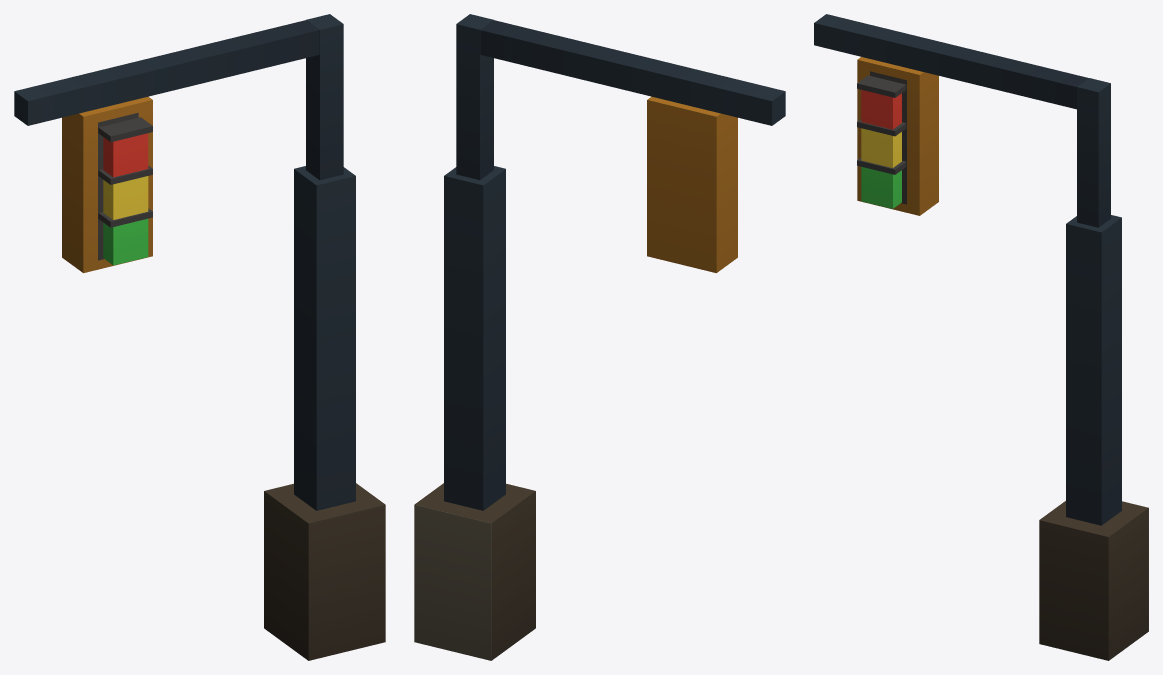
File: Traffic_lights_1.fbx
The picture shows the model from 3 angles, left to right: view 1: azimuth 30°, elevation 25°; view 2: azimuth 150°, elevation 25°; view 3: azimuth 330°, elevation 25°; orthographic projection. The views are drawn at different scales.
Visible parts, largest first — view 1: Traffic_lights_1; view 2: Traffic_lights_1; view 3: Traffic_lights_1.
Boxes of the visible parts, x1,y1,x2,y2 form: Traffic_lights_1: (14, 14, 385, 660); Traffic_lights_1: (414, 14, 785, 660); Traffic_lights_1: (814, 14, 1148, 660).
Bounding box in the file's own units: 292 × 499 × 68.9.
